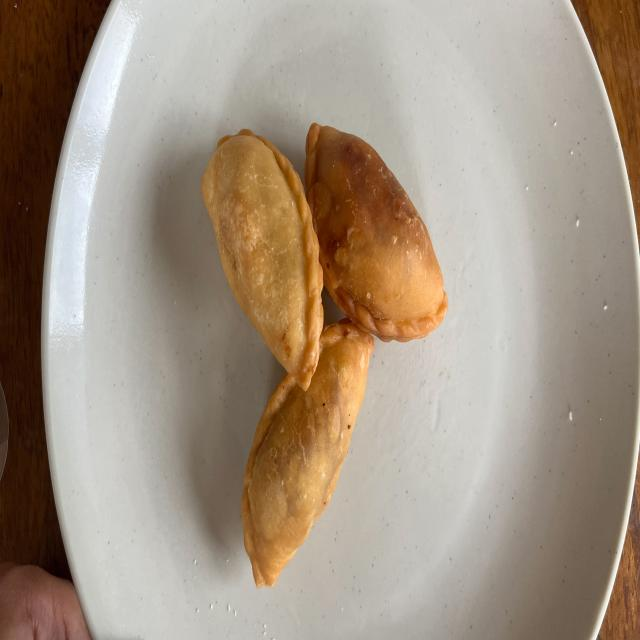karipap: (241, 320, 374, 589), (201, 129, 322, 389), (305, 124, 448, 342)
